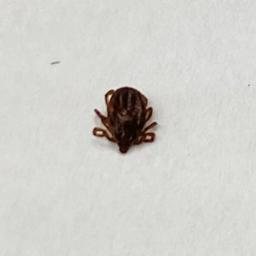Rhipicephalus sanguineus: (93, 86, 158, 155)
